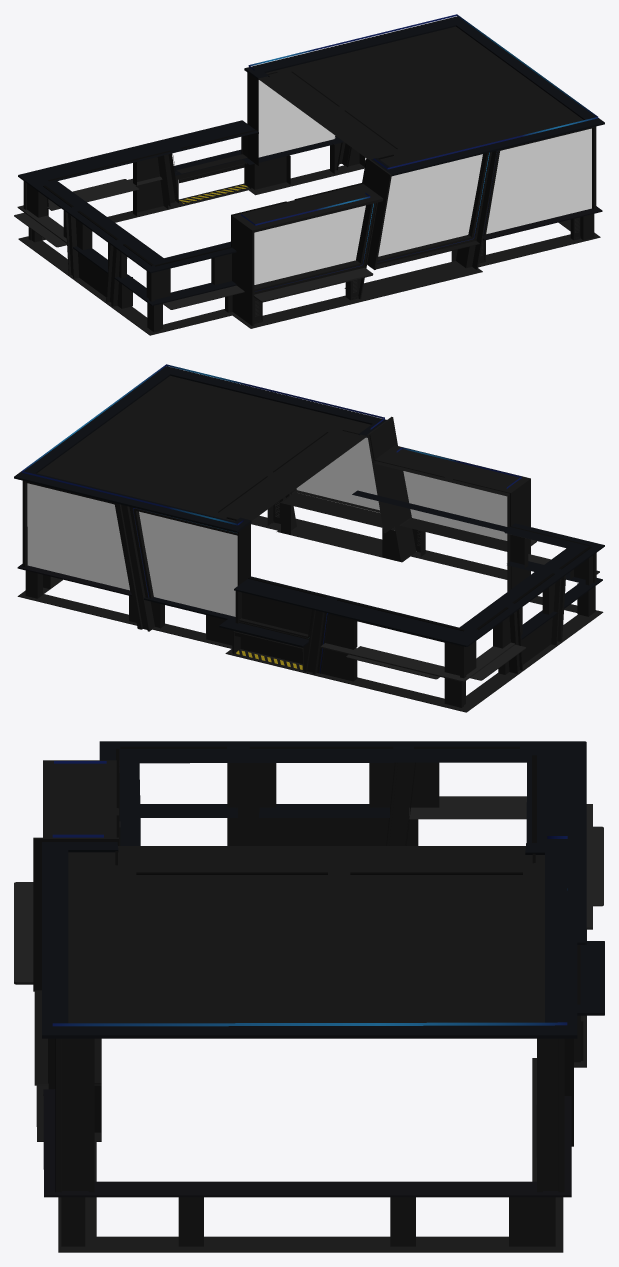
File: Building_com2us_1st_L3.fbx
The picture shows the model from 3 angles, top to bottom: view 1: azimuth 30°, elevation 25°; view 2: azimuth 150°, elevation 25°; view 3: azimuth 270°, elevation 25°; orthographic projection. The views are drawn at different scales.
Visible parts, largest first — view 1: Building_com2us_1st_L3; view 2: Building_com2us_1st_L3; view 3: Building_com2us_1st_L3.
Part boxes in pixels (x1,y1,x2,y2): Building_com2us_1st_L3: [14, 14, 604, 335]; Building_com2us_1st_L3: [14, 364, 604, 712]; Building_com2us_1st_L3: [14, 741, 604, 1252].
Bounding box in the file's own units: 81.61 × 50.78 × 21.42.
